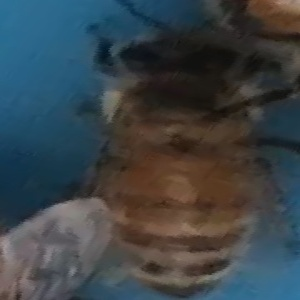bee: (57, 26, 288, 300)
